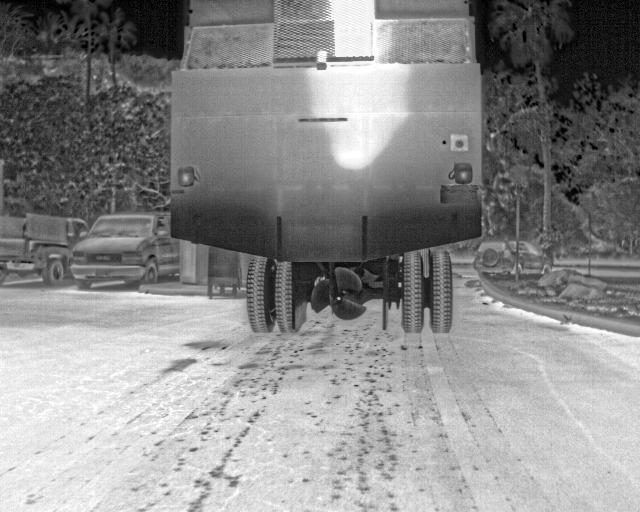bicycle: (69, 209, 178, 289), (1, 210, 88, 290), (470, 238, 553, 276)
